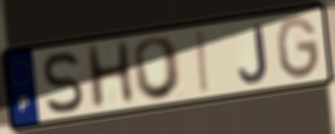G: (274, 14, 322, 82)
H: (83, 38, 138, 113)
I: (195, 27, 212, 96)
J: (236, 22, 270, 86)
O: (132, 34, 185, 102)
S: (41, 49, 86, 116)
